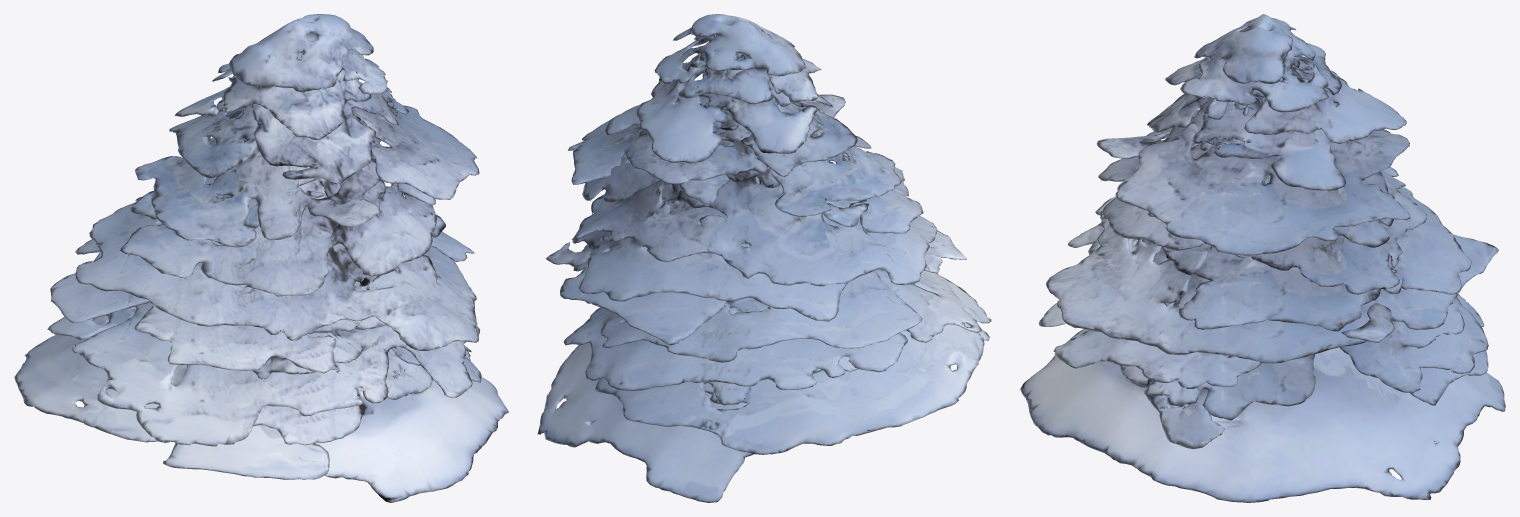
Rendered from Japanese_trees_coated_0423115328_refine.fbx.
3 renders of one model, left to right at view 1: azimuth 30°, elevation 25°; view 2: azimuth 150°, elevation 25°; view 3: azimuth 270°, elevation 25°, orthographic. The views are drawn at different scales.
Parts seen in each view (by area): view 1: Mesh_0; view 2: Mesh_0; view 3: Mesh_0.
Boxes of the visible parts, bbox=[...] form: Mesh_0: bbox=[14, 14, 508, 502]; Mesh_0: bbox=[537, 14, 991, 502]; Mesh_0: bbox=[1020, 14, 1505, 502].
Bounding box in the file's own units: 199 × 191 × 194.
Materials: 1 (1 with a texture image).
